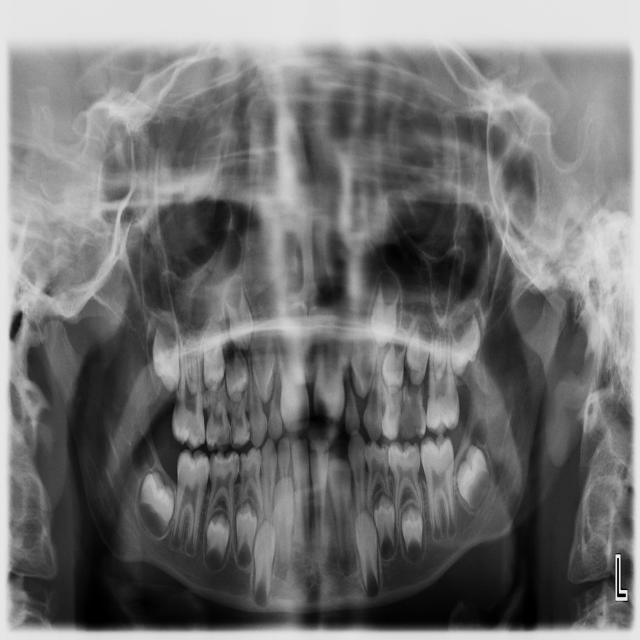mandibula: (42, 288, 567, 612)
